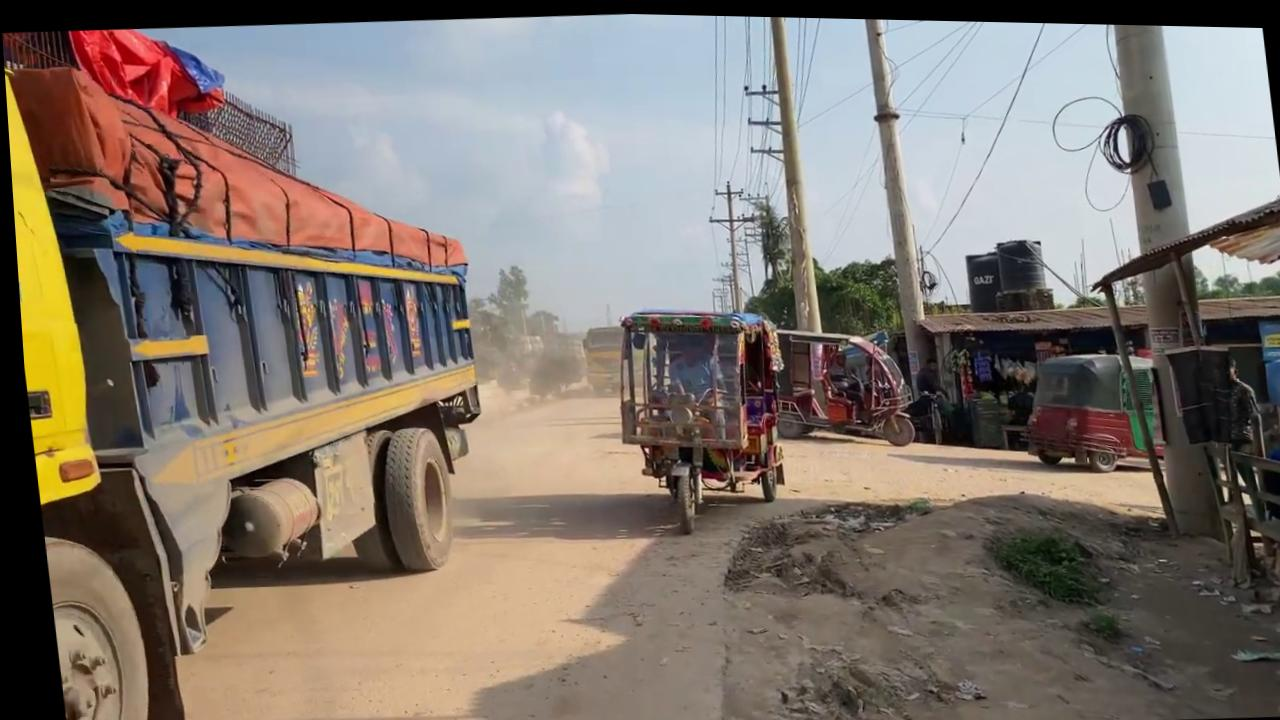Obstacle: (1075, 186, 1280, 609)
Pole: (1104, 19, 1222, 536), (859, 15, 932, 397), (757, 13, 819, 330), (1096, 274, 1171, 534)
Rickshaw: (687, 464, 1280, 720)
Traffic-sign: (489, 261, 529, 335)
Tree: (1, 12, 514, 720), (600, 300, 792, 536), (1024, 344, 1167, 474), (773, 319, 909, 451)
